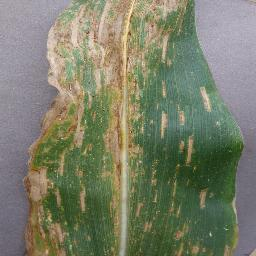Gray_Leaf_Spot: (44, 0, 148, 107), (15, 172, 121, 256), (25, 107, 153, 173), (127, 176, 176, 256), (138, 0, 190, 64), (228, 194, 247, 256), (193, 233, 229, 256), (171, 223, 194, 256), (196, 78, 216, 115), (176, 135, 198, 168), (193, 182, 210, 209), (157, 110, 169, 146), (236, 130, 242, 193), (176, 99, 189, 127), (157, 75, 169, 105), (150, 157, 159, 177), (161, 140, 170, 158), (176, 205, 181, 222), (219, 123, 225, 134), (149, 65, 155, 75)
